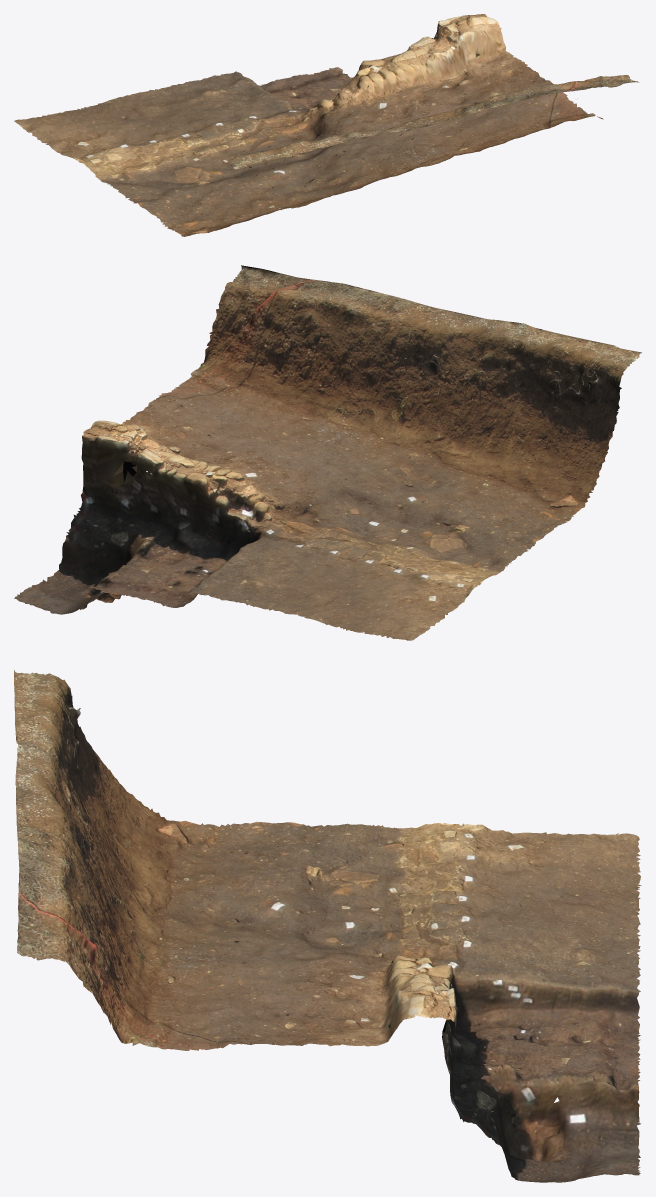
File: Montebelluna_scavo.027_LOD1.gltf
3 renders of one model, top to bottom at view 1: azimuth 30°, elevation 25°; view 2: azimuth 150°, elevation 25°; view 3: azimuth 270°, elevation 25°, orthographic. The views are drawn at different scales.
Parts seen in each view (by area): view 1: Montebelluna_scavo.027_LOD1_SM_Montebelluna_scavo.027_LOD1; view 2: Montebelluna_scavo.027_LOD1_SM_Montebelluna_scavo.027_LOD1; view 3: Montebelluna_scavo.027_LOD1_SM_Montebelluna_scavo.027_LOD1.
Boxes of the visible parts, box(x1,y1,x2,y2) form: Montebelluna_scavo.027_LOD1_SM_Montebelluna_scavo.027_LOD1: box(14, 14, 639, 236); Montebelluna_scavo.027_LOD1_SM_Montebelluna_scavo.027_LOD1: box(14, 265, 641, 640); Montebelluna_scavo.027_LOD1_SM_Montebelluna_scavo.027_LOD1: box(14, 670, 641, 1182).
Size of the model in its own units: 3.88 by 1.81 by 3.84.
Materials: 1 (1 with a texture image).
